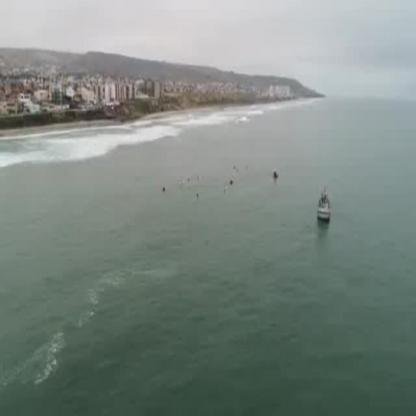Boat: (313, 194, 337, 225)
